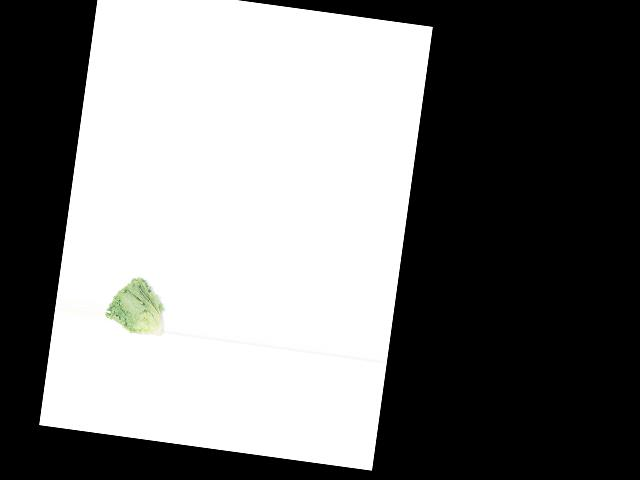lettuce: (102, 268, 172, 342)
